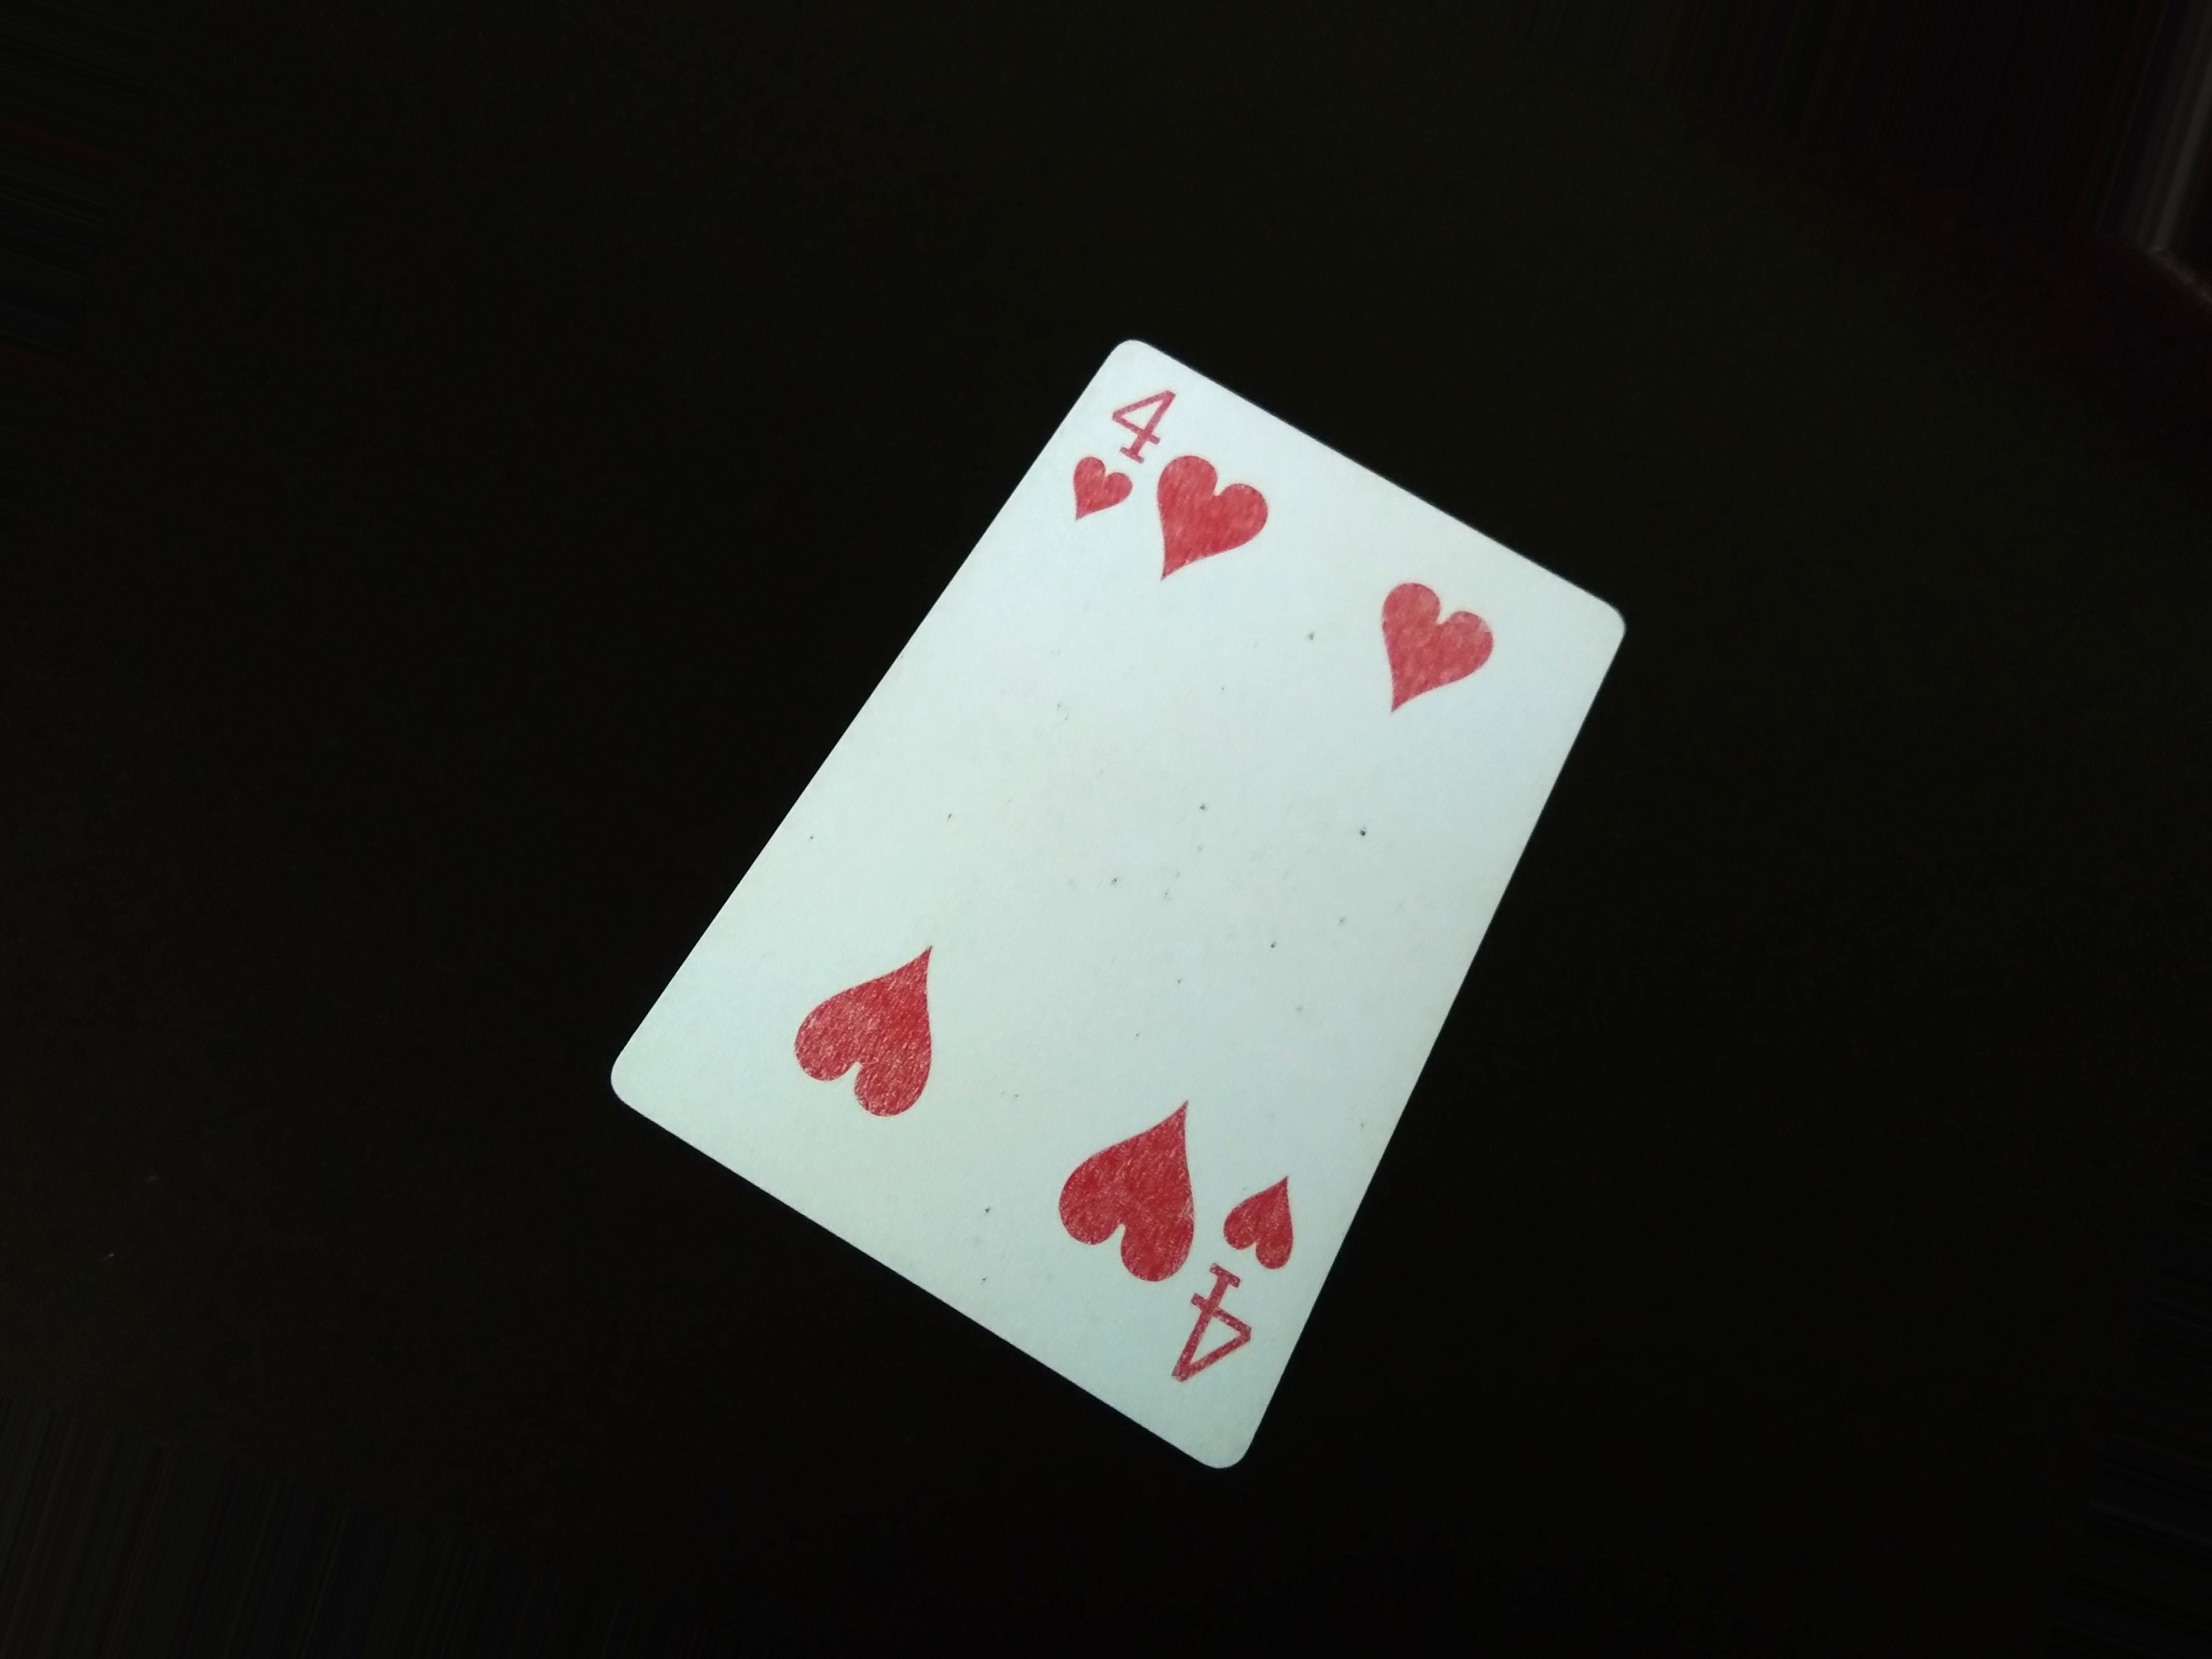4H: (1165, 1169, 1308, 1401)
